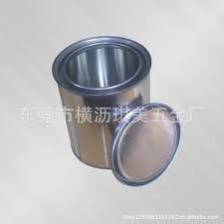metal: (49, 24, 156, 182), (100, 100, 190, 190)
